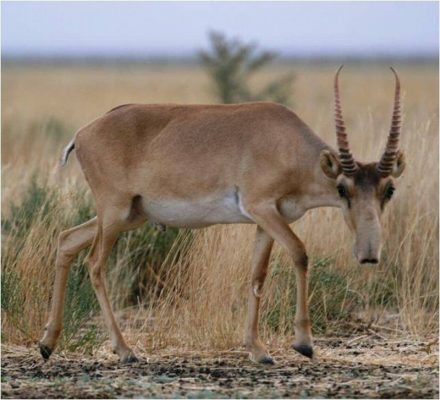saiga: (45, 64, 406, 384)
